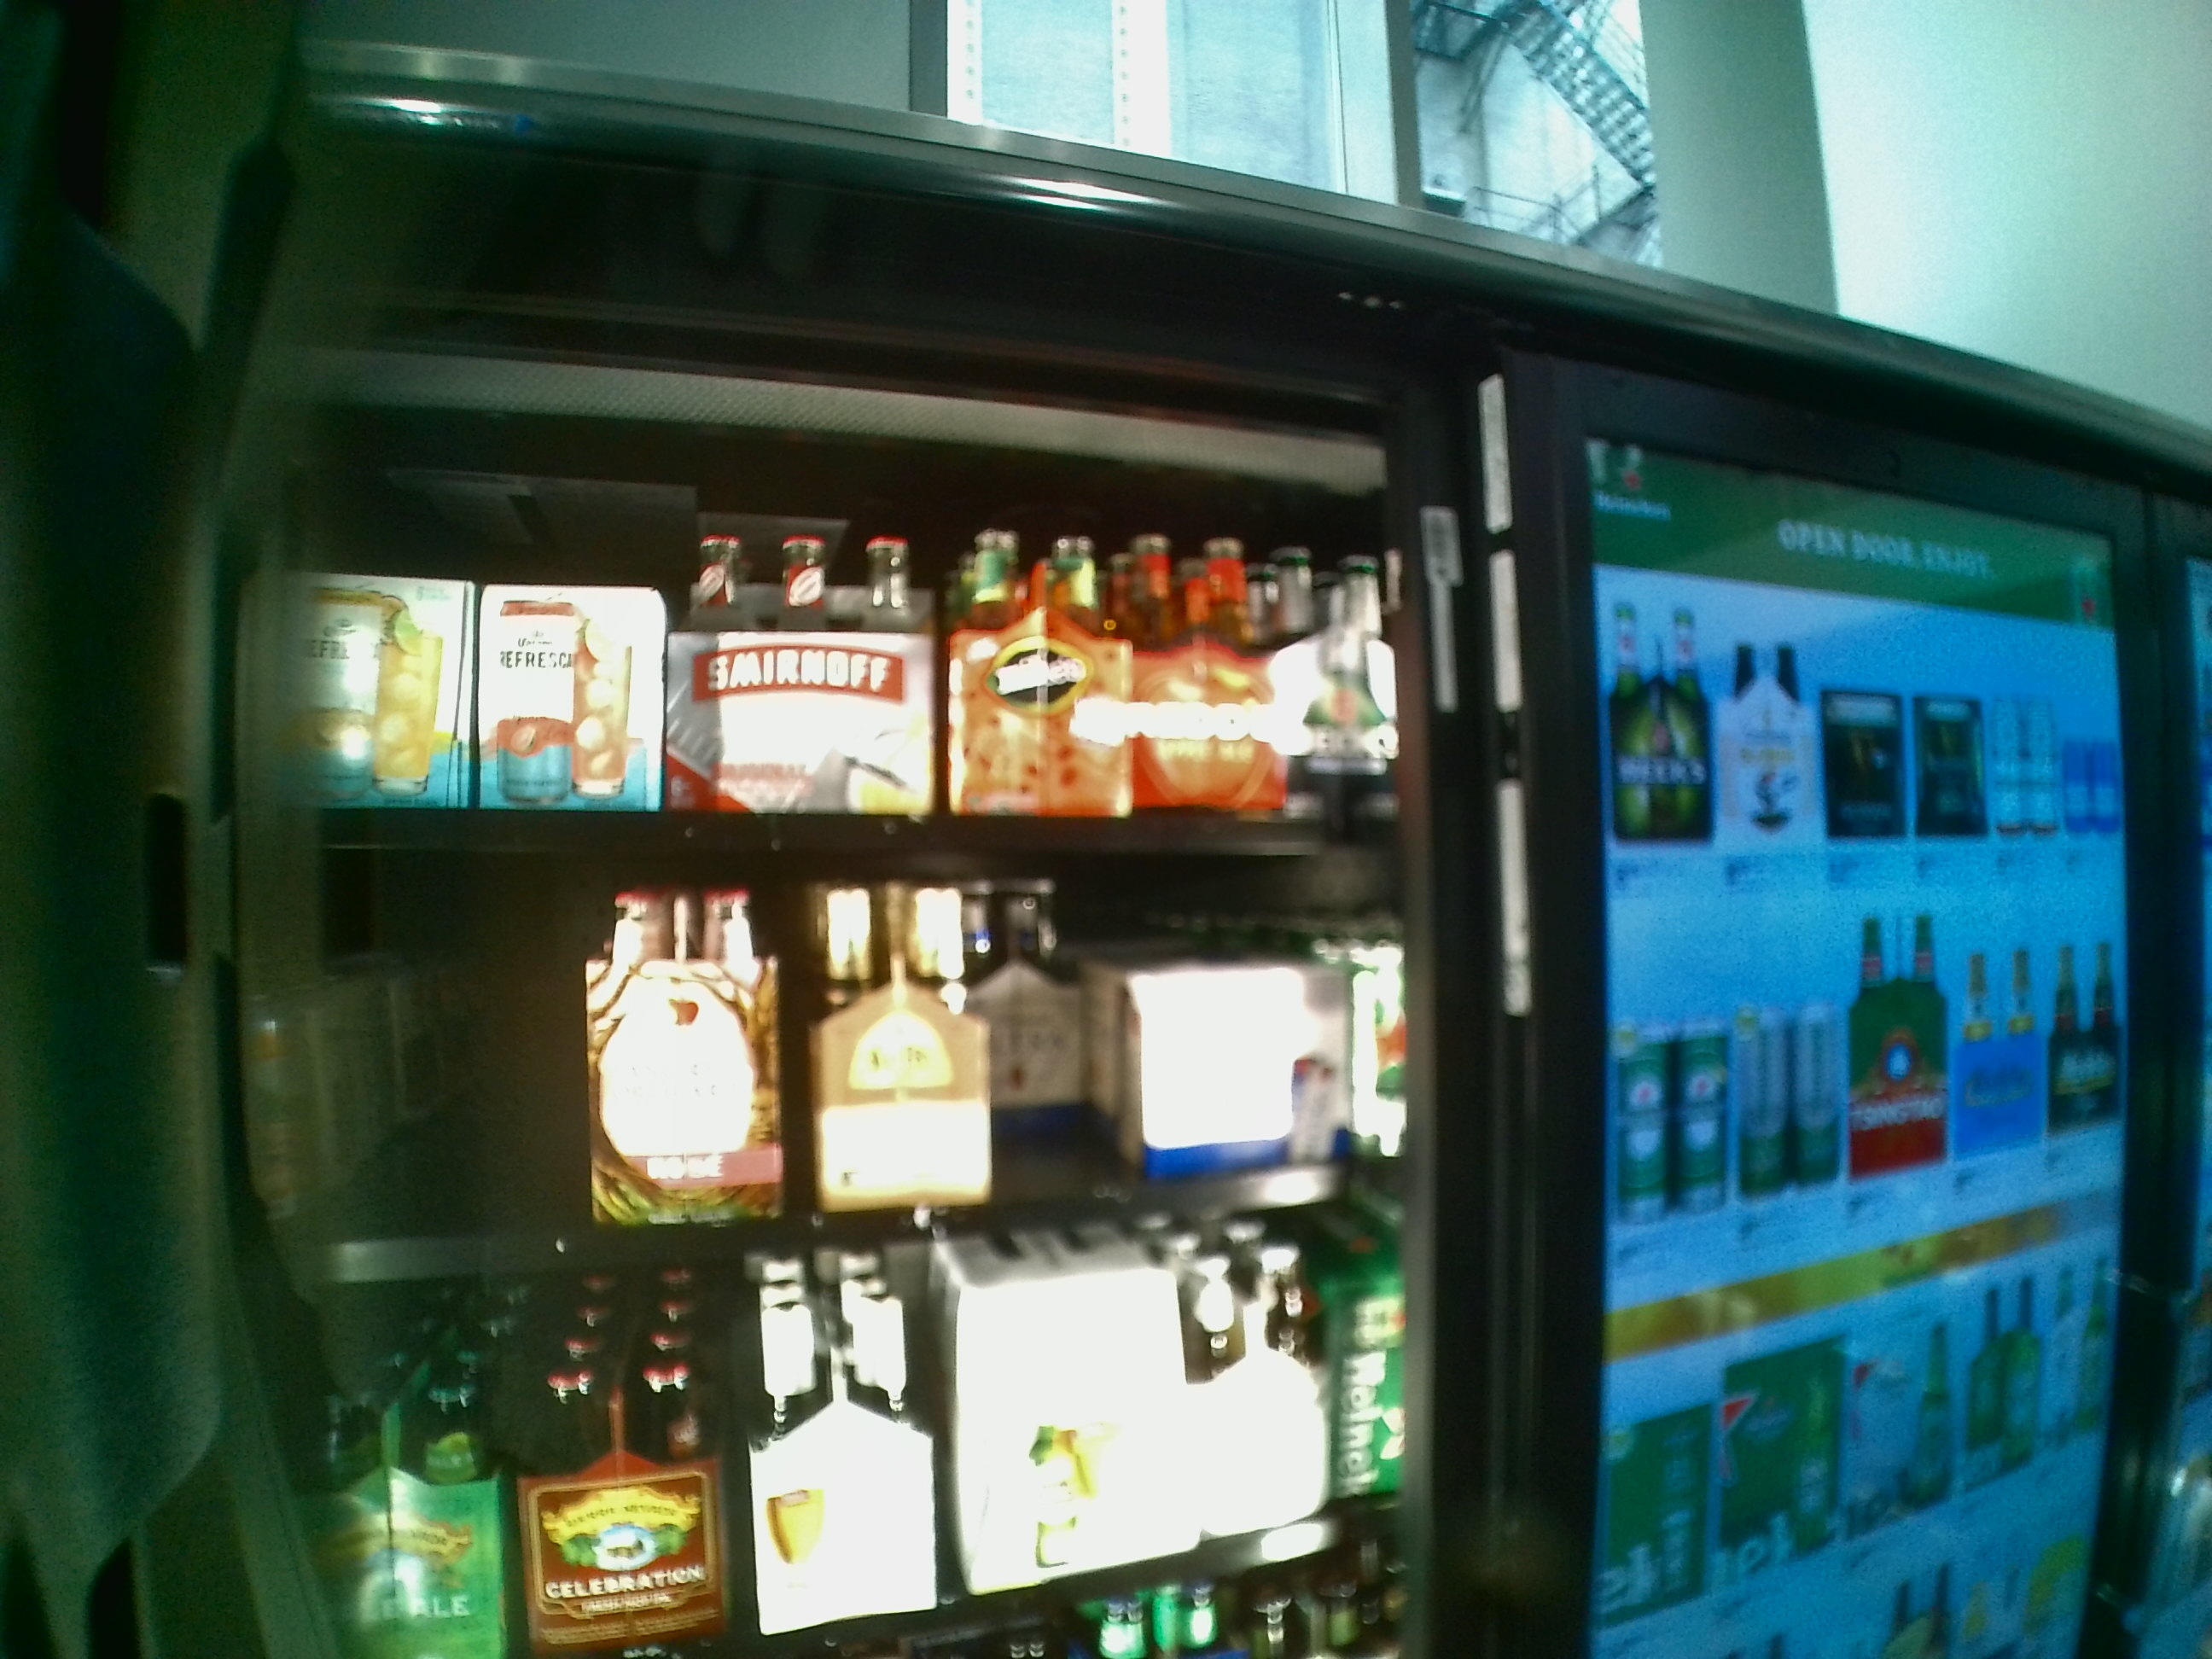shelf: (280, 870, 1406, 1286), (279, 486, 1390, 854)
